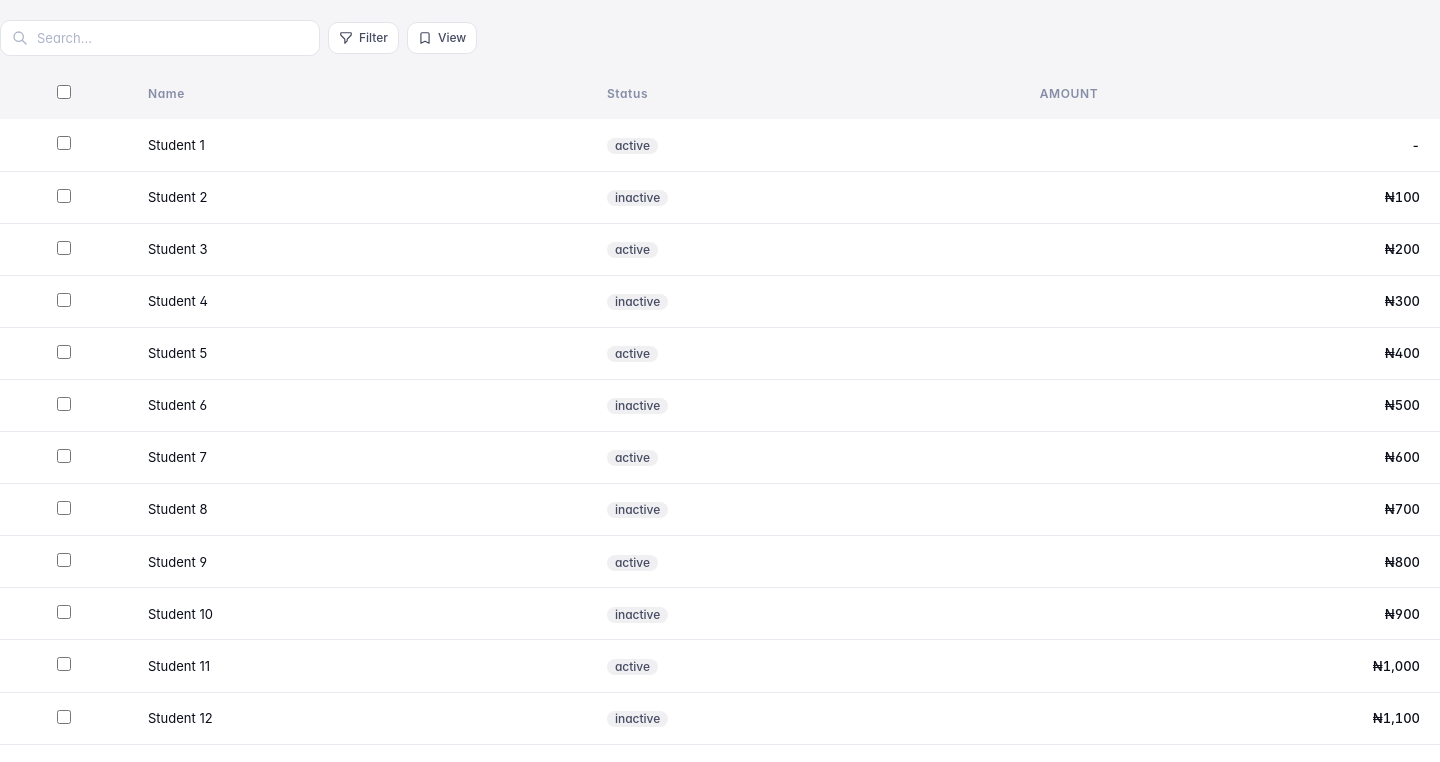
Test: DataWorkspace — large datasets › keeps the selection set stable across pages (cross-page bulk selection)
Click the checkbox named "Select row 1" at coordinates (64, 144), box [57,136,71,150]
(page scrolled)
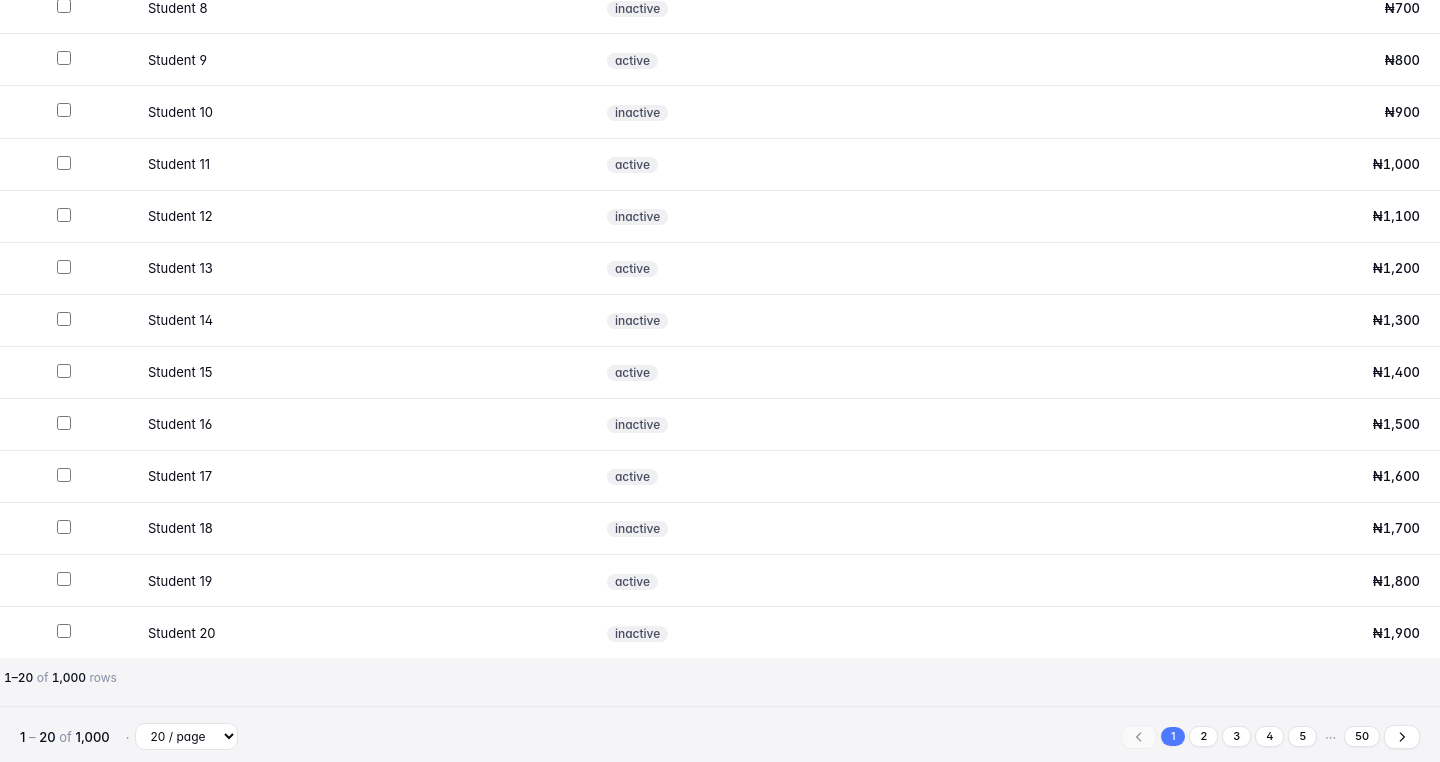
Click the button named "Next page" at coordinates (1402, 737), box [1384,725,1420,749]
(page scrolled)
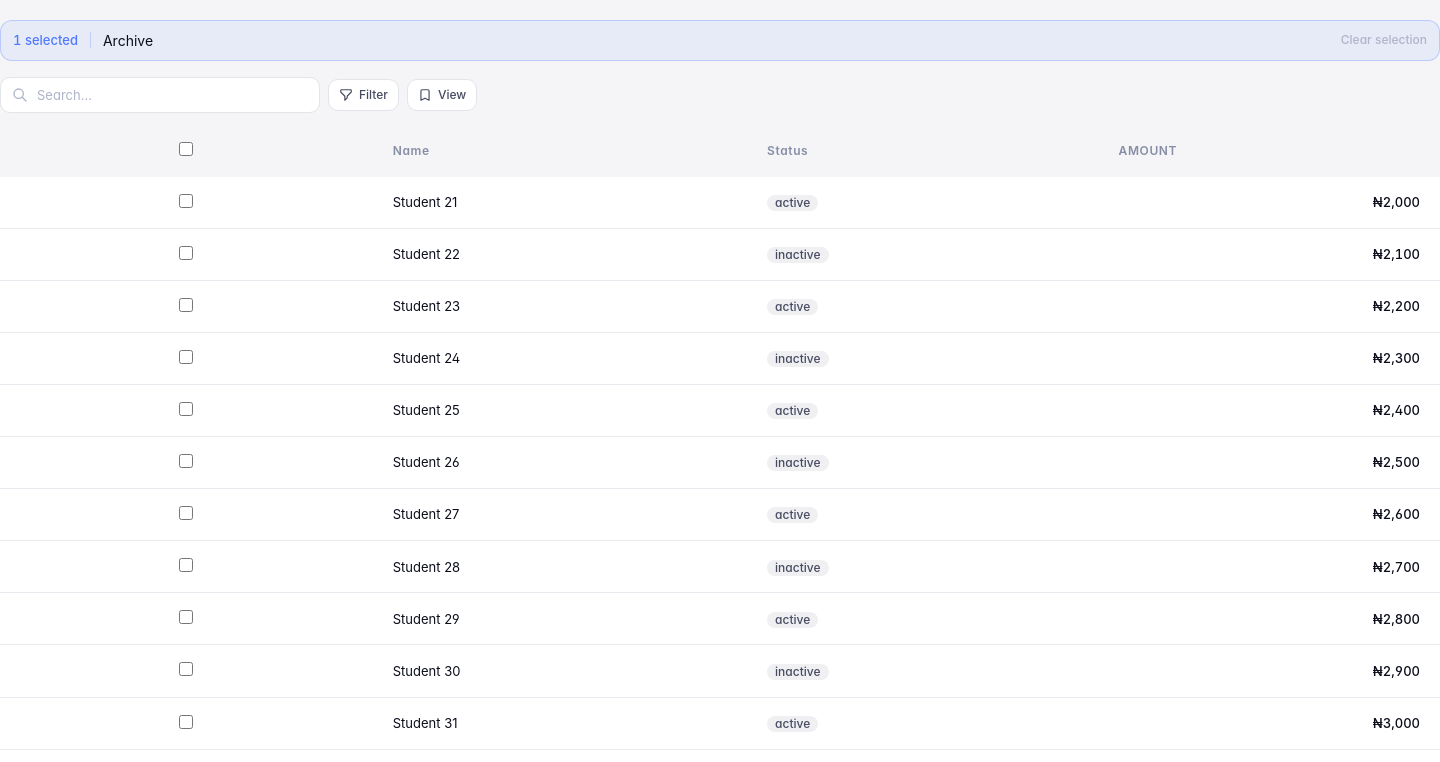
Check: the text "1 selected" is shown, box [13,31,78,50]
Note: The header checkbox still selects the *current* page only.
Click the checkbox named "Select all rows on this page" at coordinates (186, 150), box [179,142,193,156]
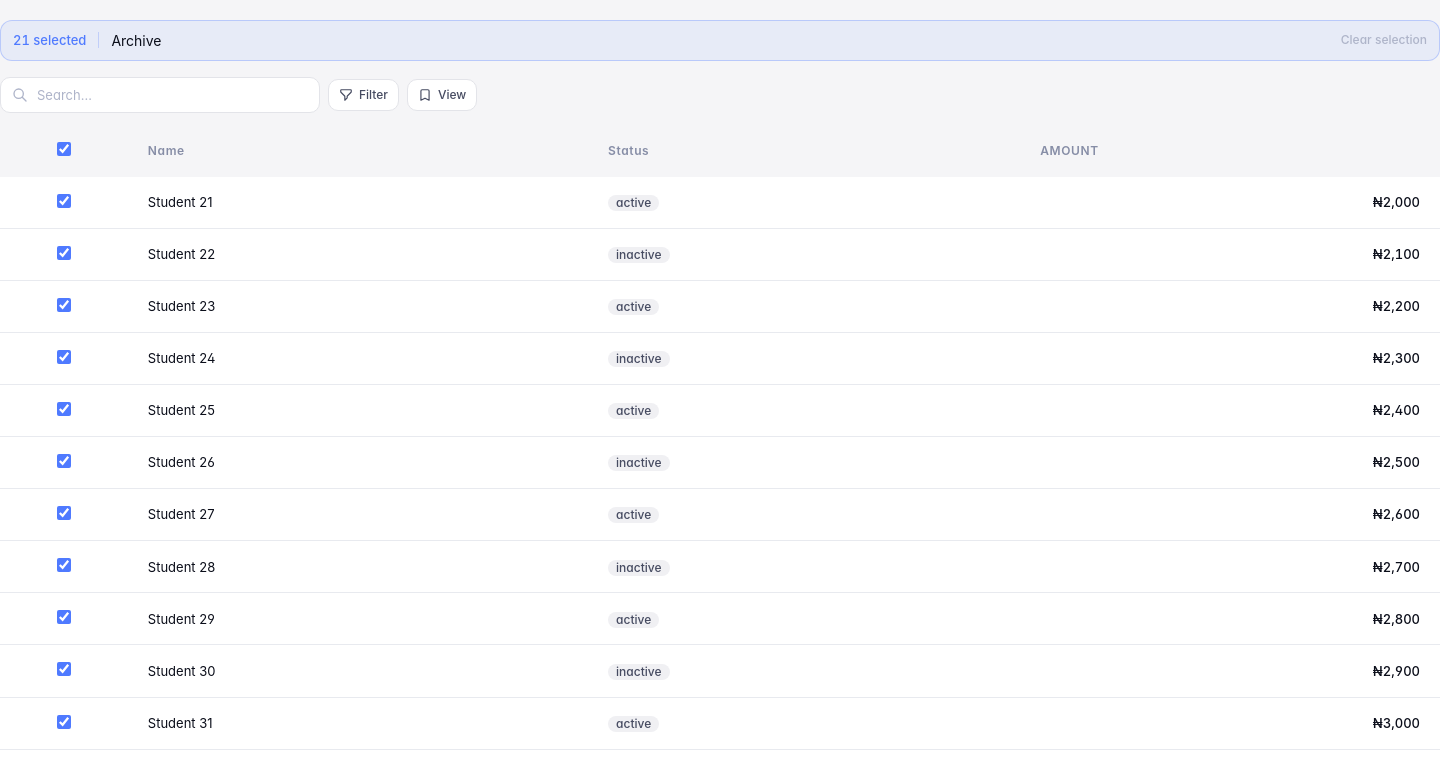
Check: the text "21 selected" is shown, box [13,31,86,50]
